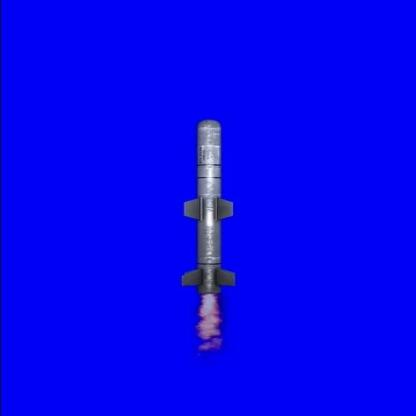MIL_TBM: (194, 112, 224, 295)
